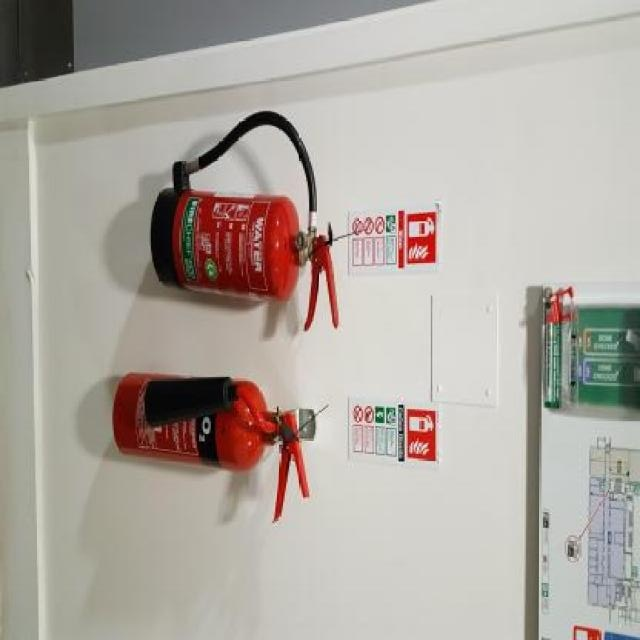fire extinguisher: (149, 110, 340, 333), (112, 373, 310, 525)
